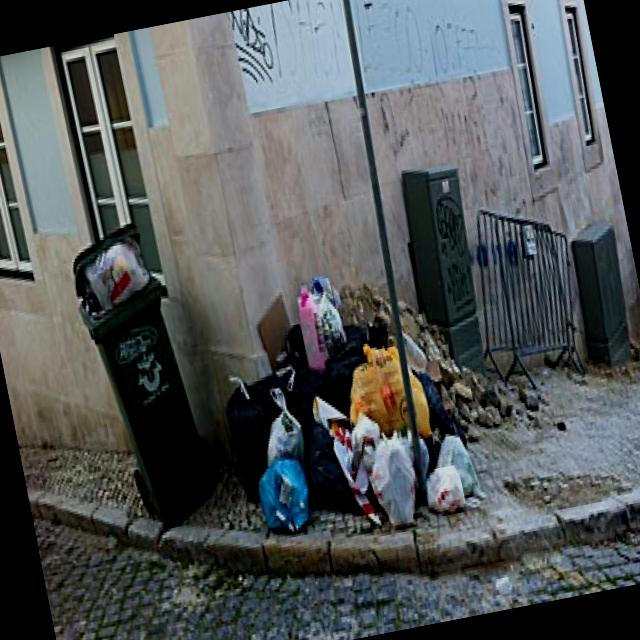garbage: (203, 244, 494, 546), (30, 200, 232, 552)
